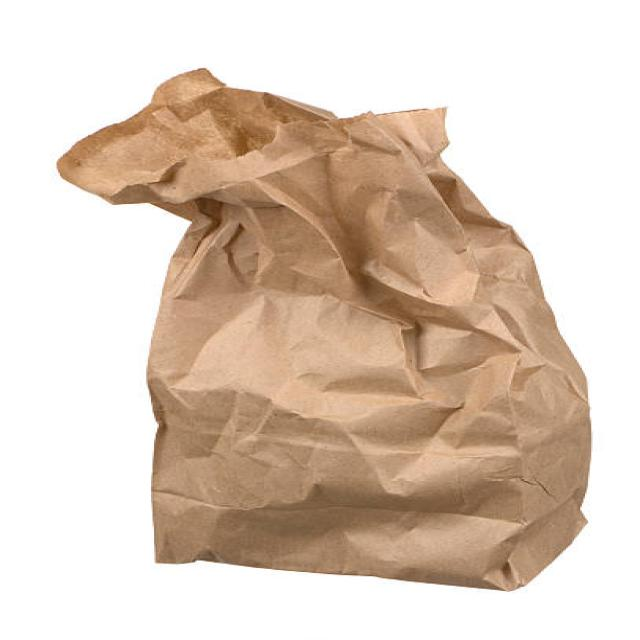electronic: (55, 67, 593, 591)
